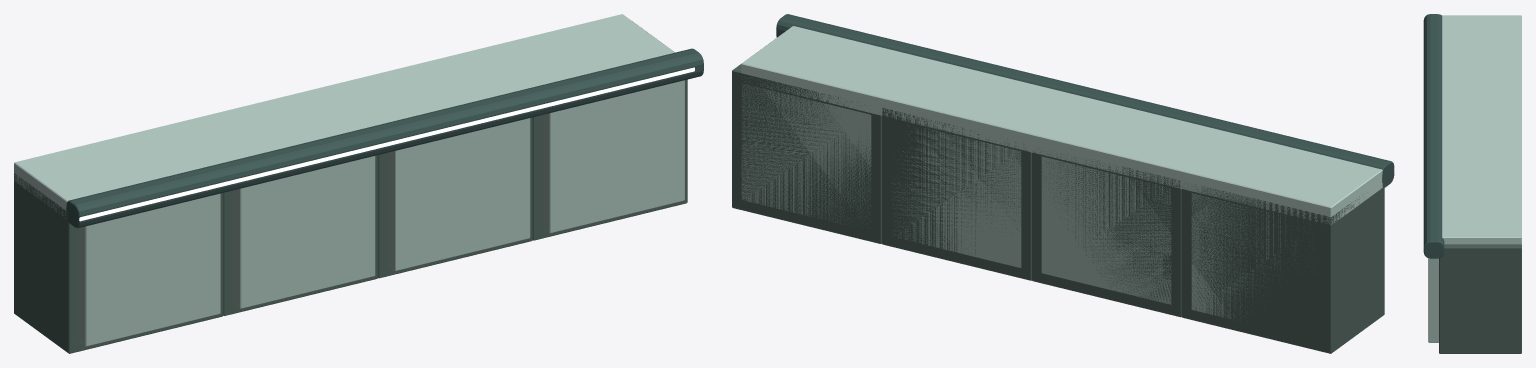
The model's file is Terrain_TopRun4R.gltf.
3 views of the same model, side by side, from view 1: azimuth 30°, elevation 25°; view 2: azimuth 150°, elevation 25°; view 3: azimuth 270°, elevation 25° (orthographic). The views are drawn at different scales.
Visible parts, largest first — view 1: Terrain_TopRun4R_baked; view 2: Terrain_TopRun4R_baked; view 3: Terrain_TopRun4R_baked.
Part boxes in pixels (x1,y1,x2,y2): Terrain_TopRun4R_baked: (14, 14, 703, 353); Terrain_TopRun4R_baked: (732, 14, 1394, 353); Terrain_TopRun4R_baked: (1423, 14, 1521, 353).
Bounding box in the file's own units: 4.04 × 0.9495 × 0.74.
